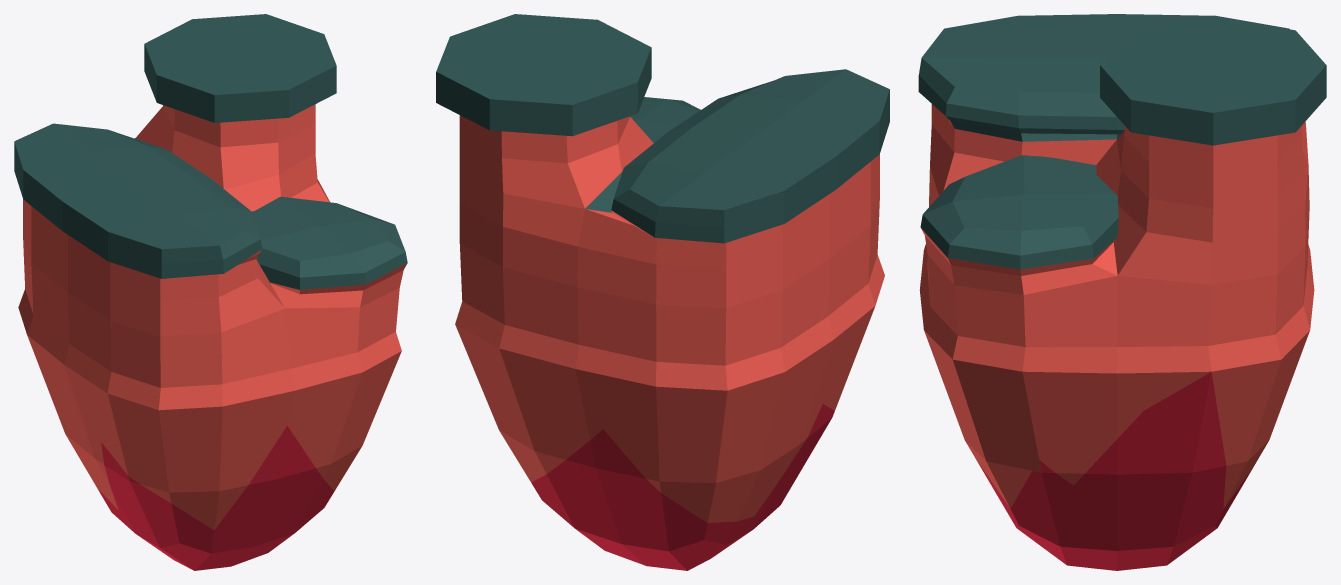
The model's file is airIsland.fbx.
3 renders of one model, left to right at view 1: azimuth 30°, elevation 25°; view 2: azimuth 150°, elevation 25°; view 3: azimuth 270°, elevation 25°, orthographic. The views are drawn at different scales.
Visible parts, largest first — view 1: Cube; view 2: Cube; view 3: Cube.
Boxes of the visible parts, box(x1,y1,x2,y2) form: Cube: box(14, 14, 407, 570); Cube: box(436, 14, 889, 570); Cube: box(918, 14, 1326, 570).
Bounding box in the file's own units: 650 × 932 × 648.
